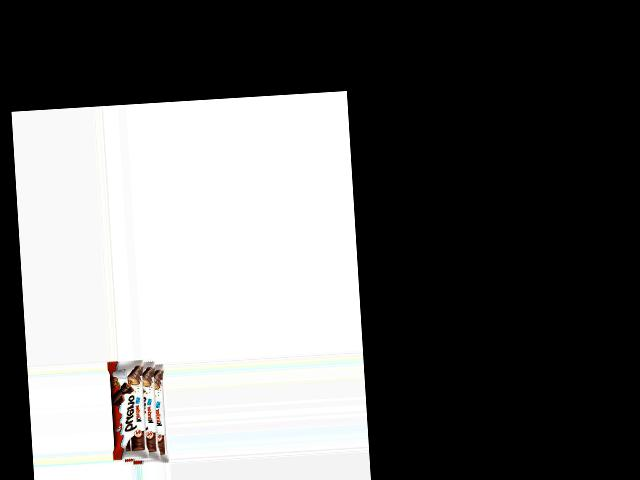chocolate: (106, 360, 169, 465)
